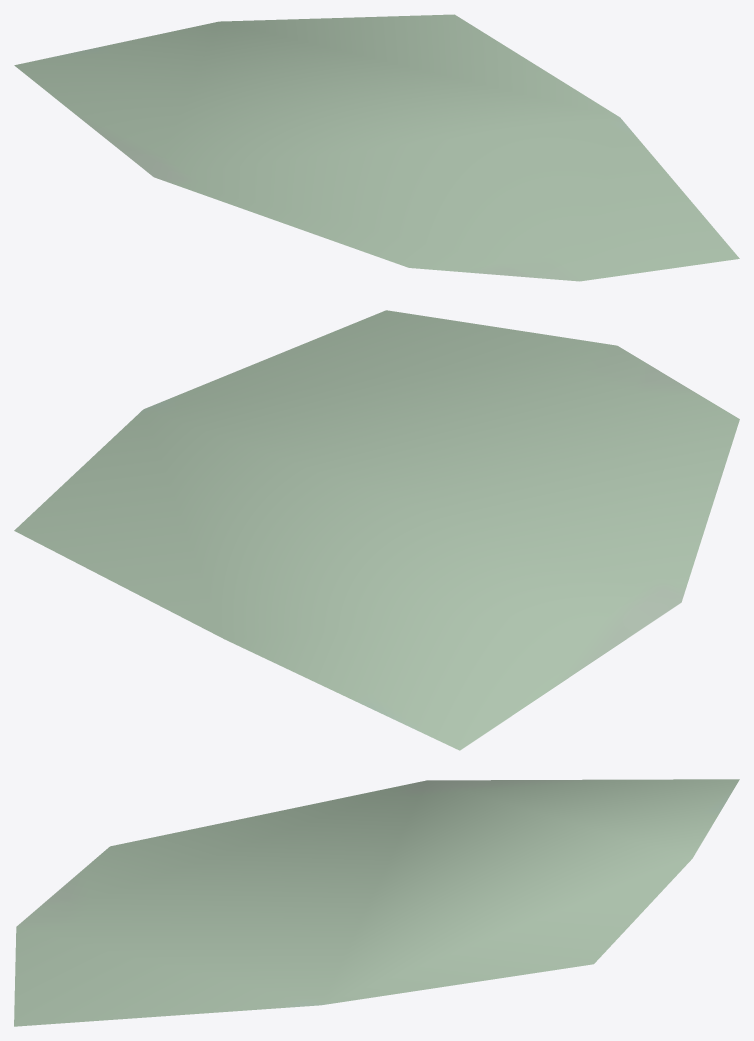
File: TROLLHOLE02_HOLECAP07.fbx
3 renders of one model, top to bottom at view 1: azimuth 30°, elevation 25°; view 2: azimuth 150°, elevation 25°; view 3: azimuth 270°, elevation 25°, orthographic. The views are drawn at different scales.
Visible parts, largest first — view 1: TROLLHOLE02_HOLECAP07; view 2: TROLLHOLE02_HOLECAP07; view 3: TROLLHOLE02_HOLECAP07.
Part boxes in pixels (x1,y1,x2,y2): TROLLHOLE02_HOLECAP07: [14, 14, 739, 281]; TROLLHOLE02_HOLECAP07: [14, 310, 739, 750]; TROLLHOLE02_HOLECAP07: [14, 779, 739, 1026].
Bounding box in the file's own units: 19217 × 2477 × 26960.
Materials: 1 (1 with a texture image).
